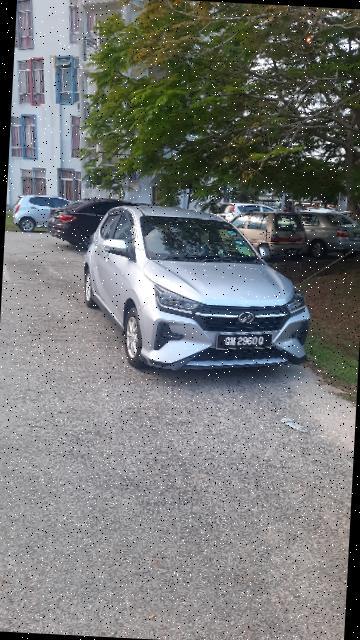License_Plate: (215, 329, 278, 354)
car: (78, 200, 321, 382)
